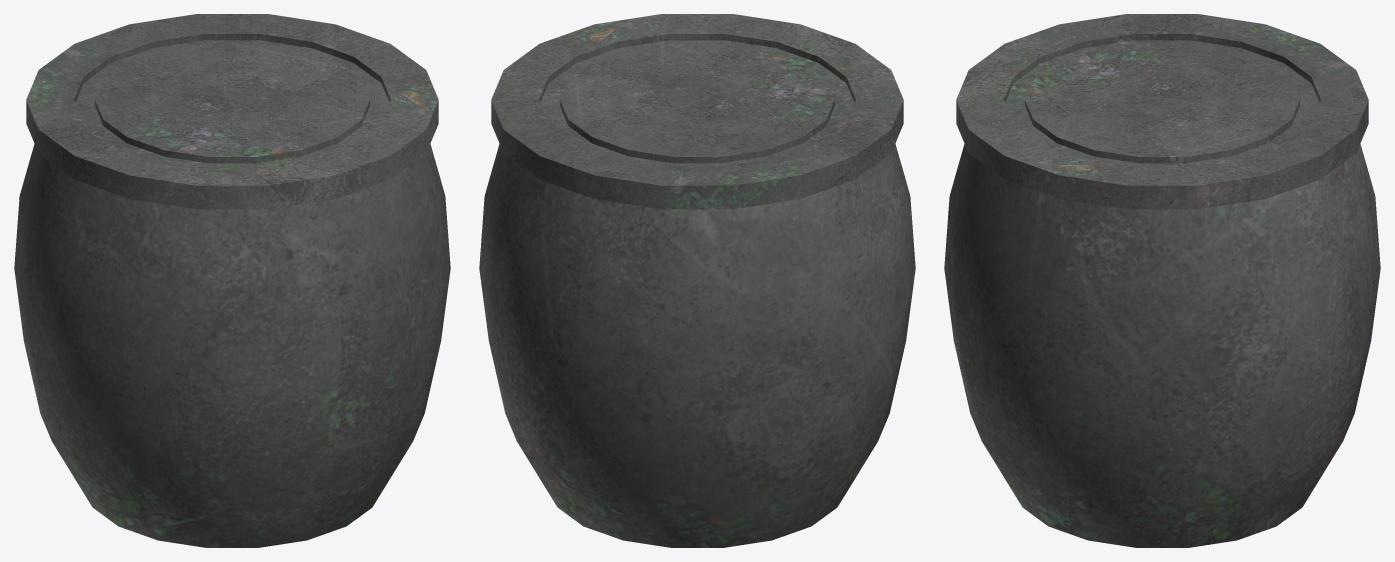
Rendered from Chair_6.FBX.
The picture shows the model from 3 angles, left to right: view 1: azimuth 30°, elevation 25°; view 2: azimuth 150°, elevation 25°; view 3: azimuth 270°, elevation 25°; orthographic projection.
Parts seen in each view (by area): view 1: Chair_6; view 2: Chair_6; view 3: Chair_6.
Boxes of the visible parts, box(x1,y1,x2,y2) form: Chair_6: box(14, 14, 450, 547); Chair_6: box(479, 14, 915, 547); Chair_6: box(944, 14, 1380, 547).
Bounding box in the file's own units: 18.67 × 18.51 × 18.96.
